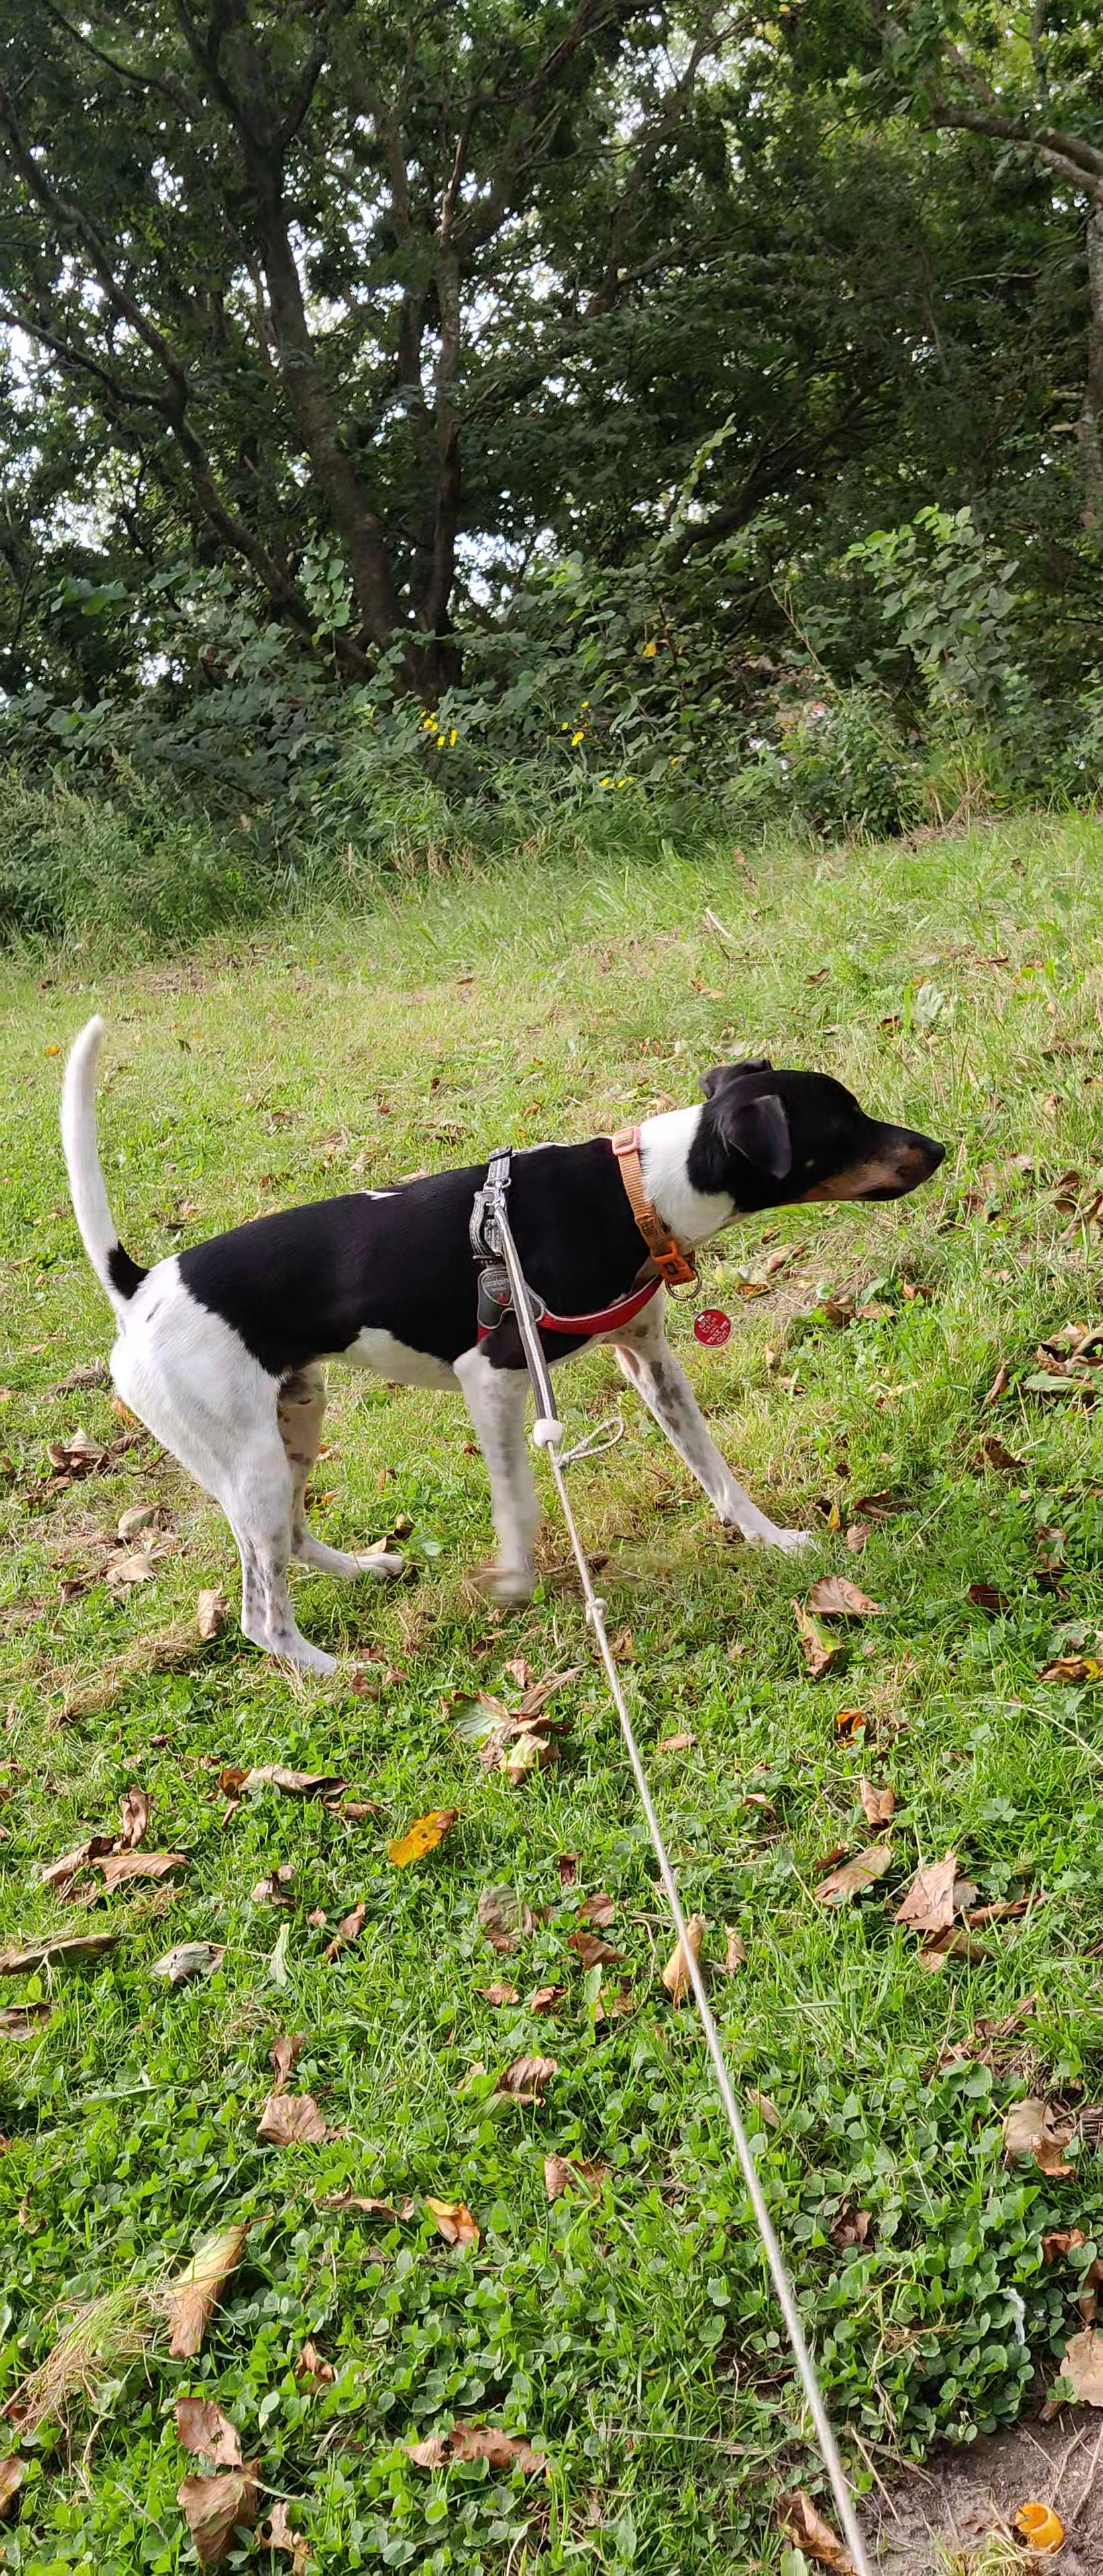Dog: (41, 996, 971, 1682)
